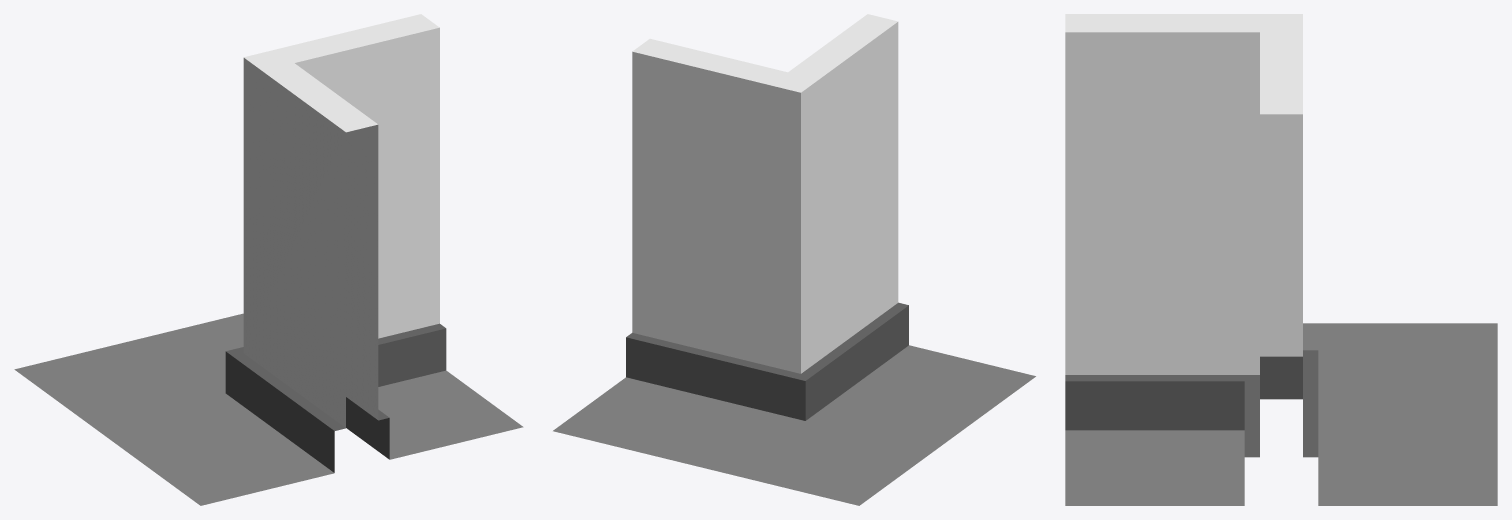
The model's file is I_Wall_L_Shape.fbx.
The picture shows the model from 3 angles, left to right: view 1: azimuth 30°, elevation 25°; view 2: azimuth 150°, elevation 25°; view 3: azimuth 270°, elevation 25°; orthographic projection. The views are drawn at different scales.
Parts seen in each view (by area): view 1: I_Wall_L_Shape; view 2: I_Wall_L_Shape; view 3: I_Wall_L_Shape.
Boxes of the visible parts, x1,y1,x2,y2 form: I_Wall_L_Shape: [14, 14, 523, 505]; I_Wall_L_Shape: [553, 14, 1035, 505]; I_Wall_L_Shape: [1065, 14, 1497, 505].
Bounding box in the file's own units: 200 × 200 × 200.
